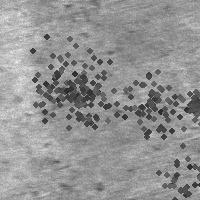rolled-in_scale: (8, 32, 120, 144), (37, 43, 131, 137), (103, 59, 195, 151), (141, 141, 200, 200), (37, 4, 89, 63), (22, 150, 83, 200), (173, 83, 200, 125)
